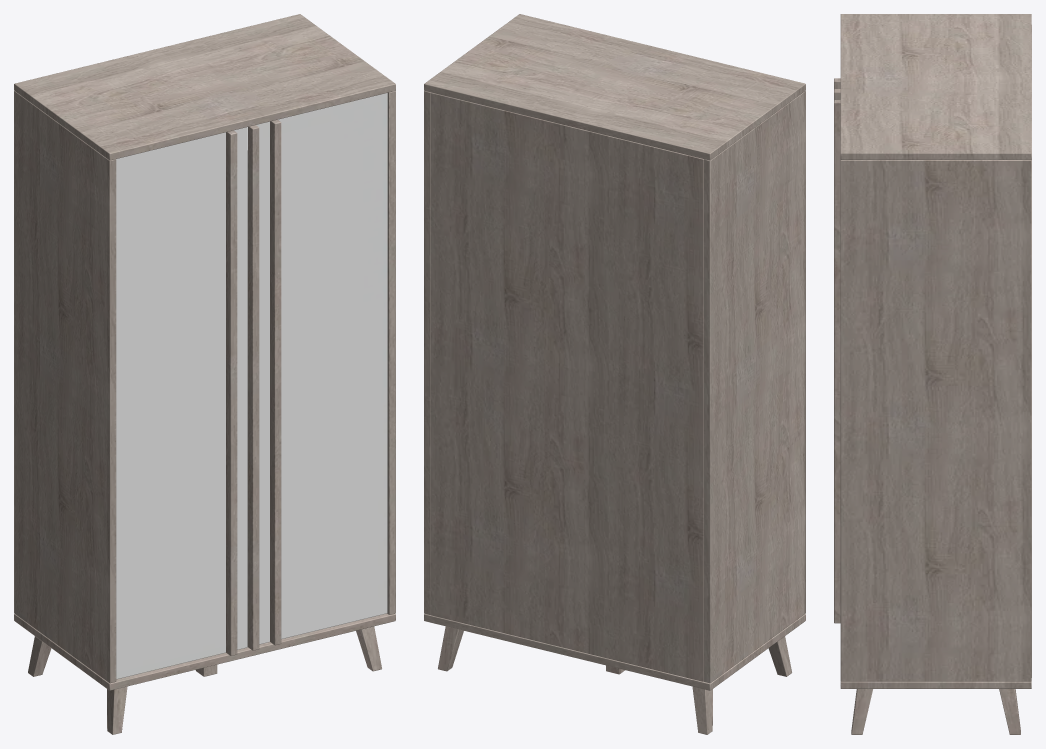
The picture shows the model from 3 angles, left to right: view 1: azimuth 30°, elevation 25°; view 2: azimuth 150°, elevation 25°; view 3: azimuth 270°, elevation 25°; orthographic projection.
Parts seen in each view (by area): view 1: B07H8V7P3H; view 2: B07H8V7P3H; view 3: B07H8V7P3H.
Boxes of the visible parts, x1,y1,x2,y2 form: B07H8V7P3H: (14,14,395,734); B07H8V7P3H: (424,14,805,734); B07H8V7P3H: (834,14,1031,734).
Size of the model in its own units: 0.9999 by 1.96 by 0.5999.
1 material, 1 textured.
